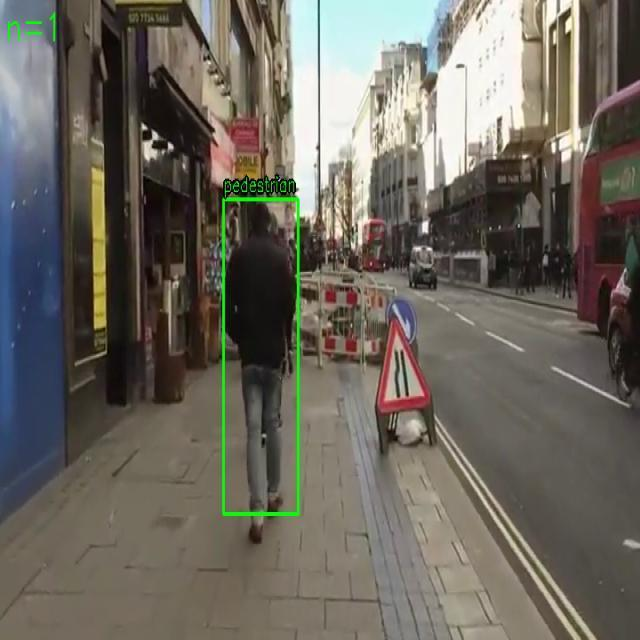person: (224, 198, 298, 514)
